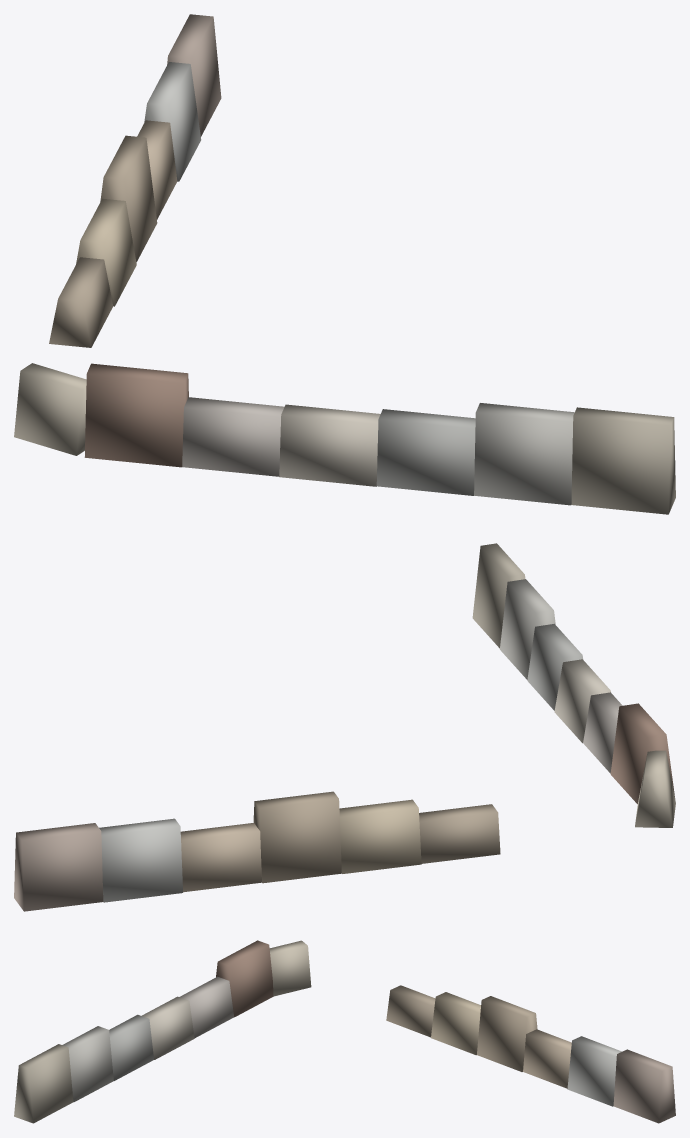
Rendered from farm_-2_8_collision.glb.
The picture shows the model from 3 angles, top to bottom: view 1: azimuth 30°, elevation 25°; view 2: azimuth 150°, elevation 25°; view 3: azimuth 270°, elevation 25°; orthographic projection. The views are drawn at different scales.
Visible parts, largest first — view 1: geometry_0; view 2: geometry_0; view 3: geometry_0.
Boxes of the visible parts, <box> form: geometry_0: <box>14,14,675,514</box>; geometry_0: <box>14,543,675,911</box>; geometry_0: <box>14,940,675,1123</box>.
Size of the model in its own units: 9.1 by 1.83 by 16.84.
